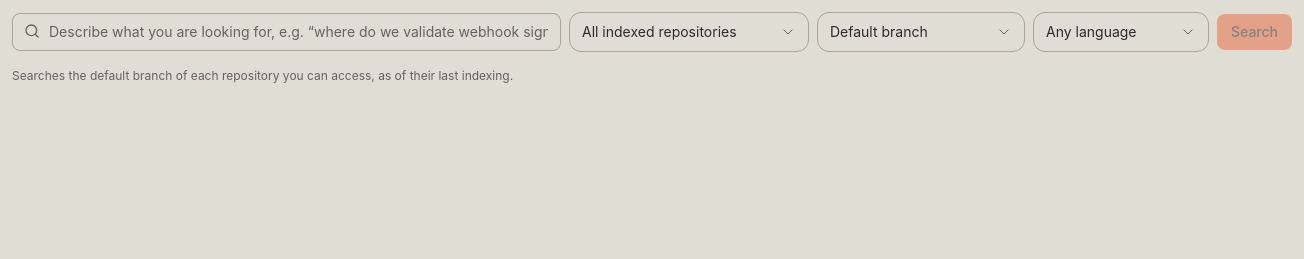
Test: search results link to the related pull request › shows no pull request link when none is related
The image size is (1304, 259).
Type "database" into the field named "Search query" at (286,32), box left=12, top=13, right=561, bottom=51
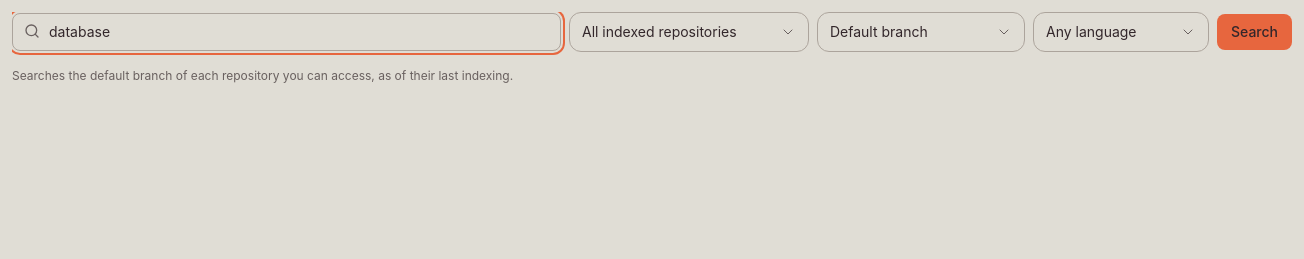
Click the button "Search" at (1254,32), box left=1217, top=14, right=1292, bottom=50
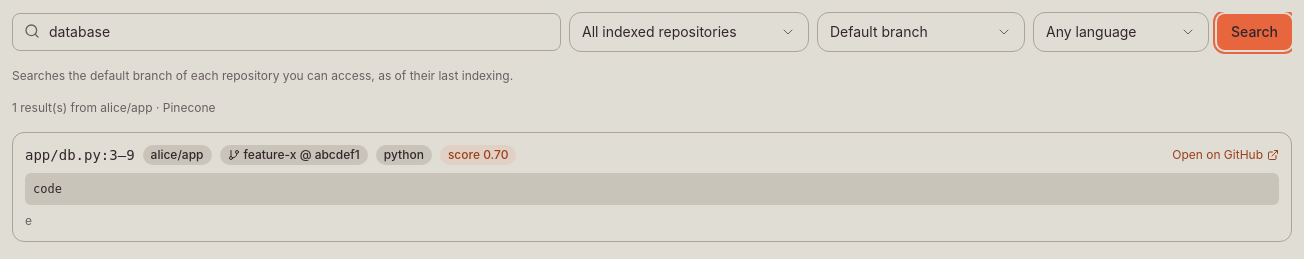
Expected: the text "app/db.py:3–9" is shown, left=25, top=145, right=135, bottom=165
